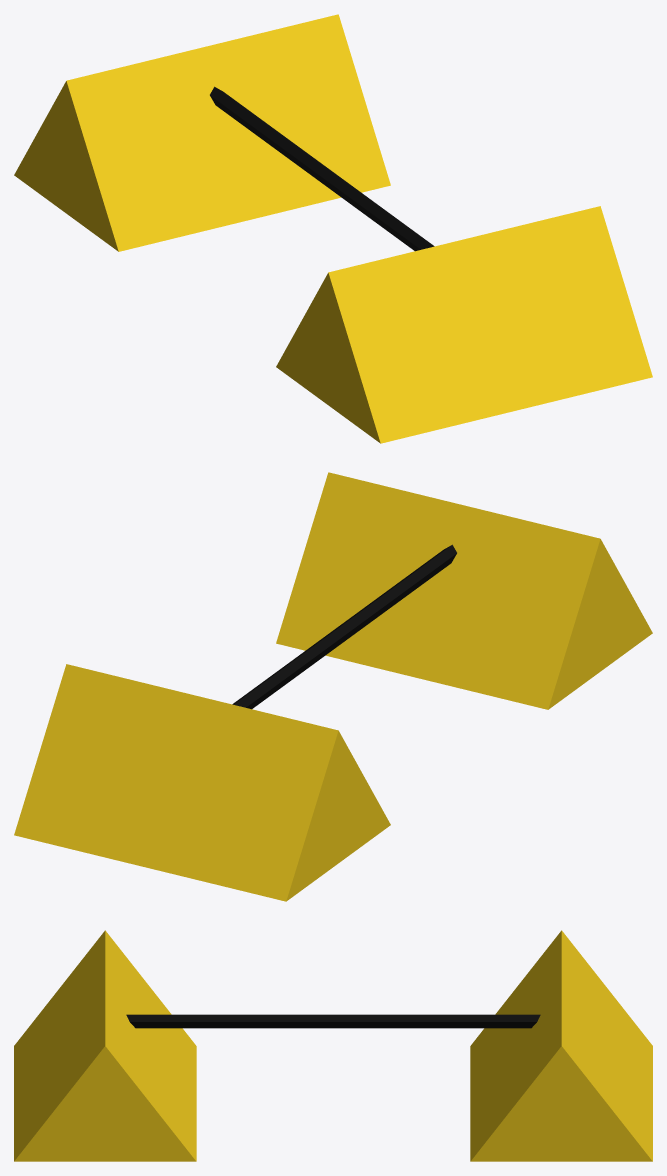
The model's file is airport.airside.chocks.glb.
3 renders of one model, top to bottom at view 1: azimuth 30°, elevation 25°; view 2: azimuth 150°, elevation 25°; view 3: azimuth 270°, elevation 25°, orthographic. The views are drawn at different scales.
Parts seen in each view (by area): view 1: main__plastic_yellow, main__plastic_black; view 2: main__plastic_yellow, main__plastic_black; view 3: main__plastic_yellow, main__plastic_black.
Part boxes in pixels (x1,y1,x2,y2): main__plastic_yellow: (14, 14, 652, 443); main__plastic_black: (210, 86, 434, 251); main__plastic_yellow: (14, 472, 652, 901); main__plastic_black: (232, 544, 456, 709); main__plastic_yellow: (14, 930, 652, 1161); main__plastic_black: (126, 1014, 540, 1028).
Bounding box in the file's own units: 0.3 × 0.14 × 0.7.
